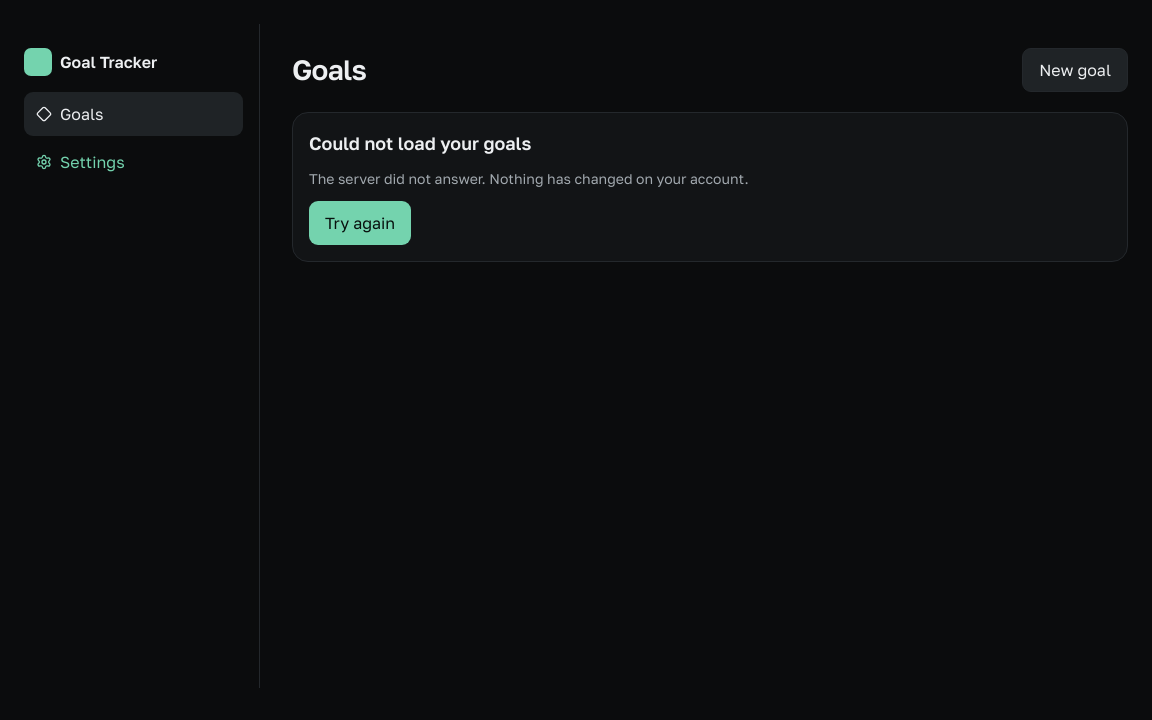
Scenario: M2 goals web flows › shows loading then error with retry
This screenshot has width=1152, height=720.
Expected: the heading "Could not load your goals" is shown, [309,132,532,154]
What coordinates should you click on to do the following:
click the button "Try again"
I would click on:
 (360, 223)
Its box is [309,201,411,245].
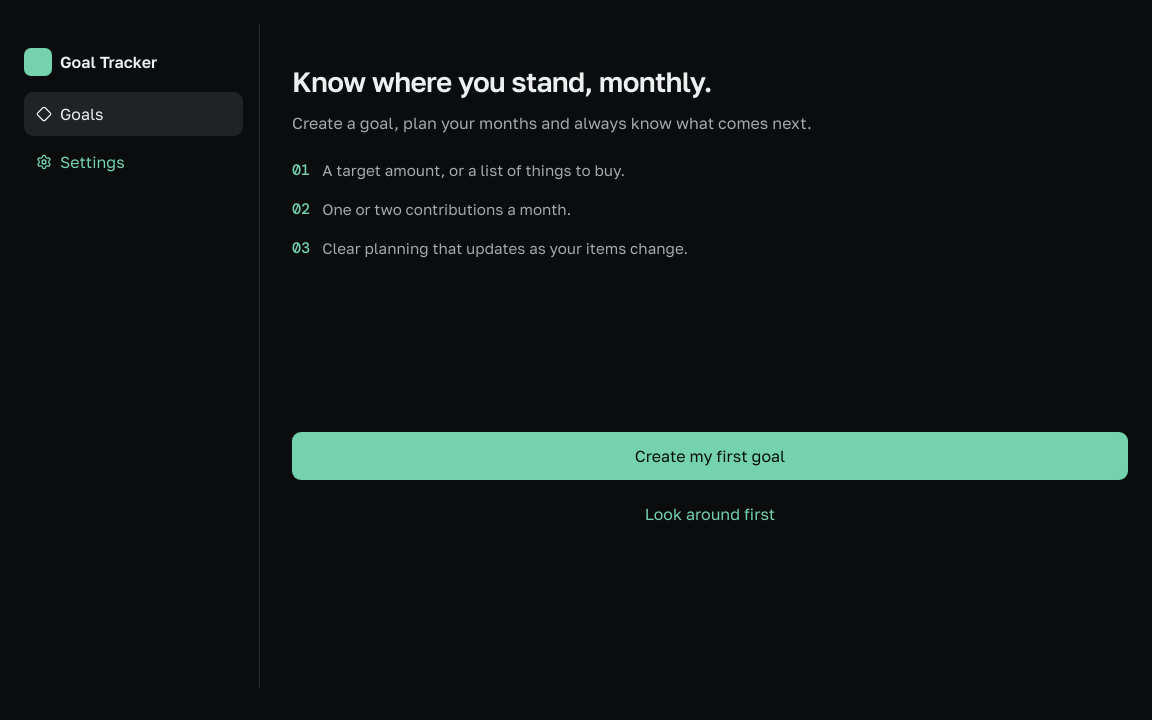
Expected: the heading "Know where you stand, monthly." is shown, [292,65,712,98]
